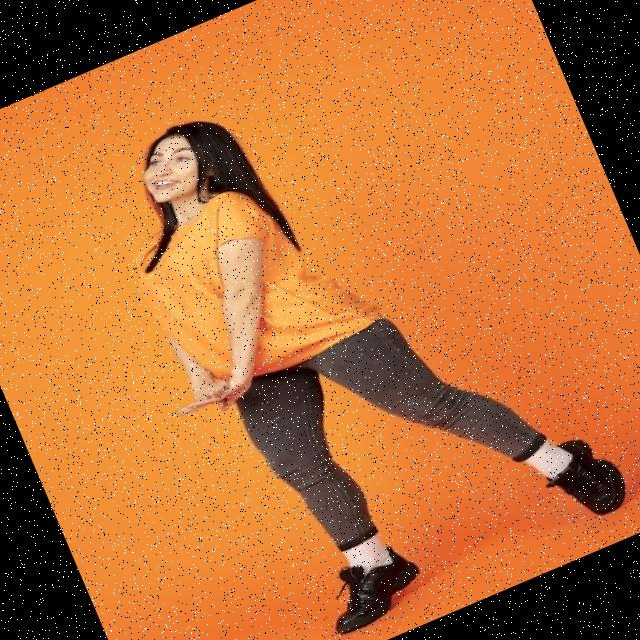Person: (71, 18, 635, 640)
